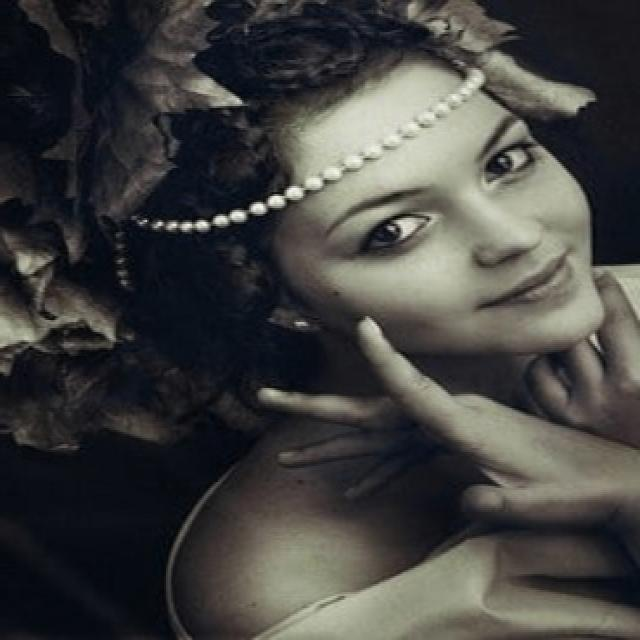adult: (158, 40, 640, 637)
